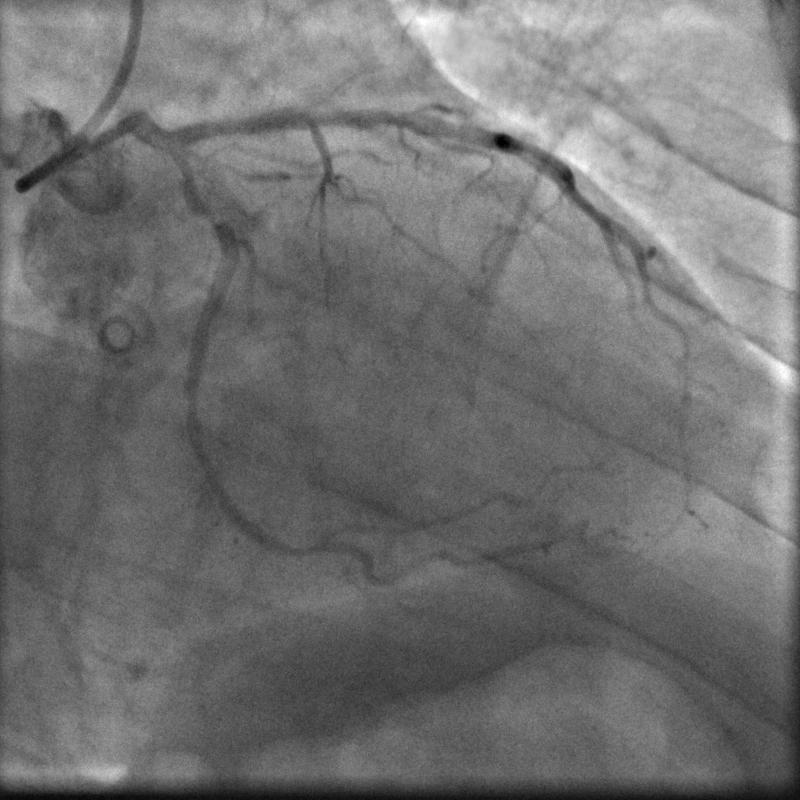Stenosis: (200, 206, 224, 227)
